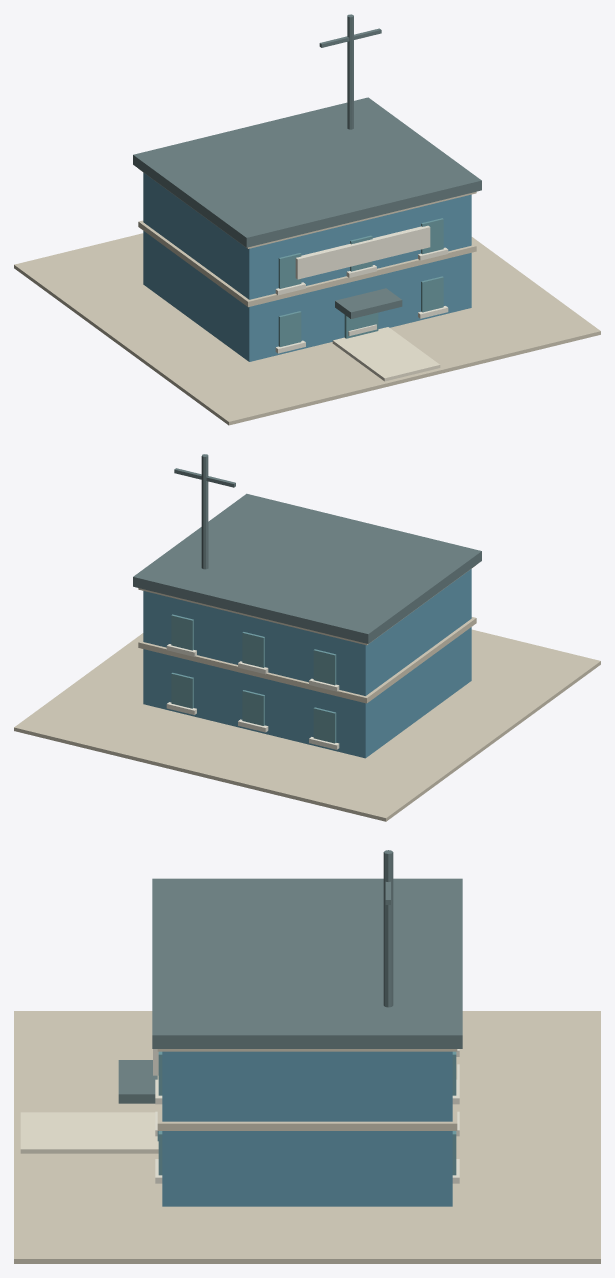
The model's file is civic_police.glb.
The picture shows the model from 3 angles, top to bottom: view 1: azimuth 30°, elevation 25°; view 2: azimuth 150°, elevation 25°; view 3: azimuth 270°, elevation 25°; orthographic projection. The views are drawn at different scales.
Visible parts, largest first — view 1: Paved civic lot.005, Copper roof.005, Masonry shell.005, Police sign, Front path.005, Limestone course.009, Entrance canopy.005, Radio mast, Recessed glazing.054, Recessed glazing.058, Recessed glazing.060, Limestone course.010 (+1 smaller); view 2: Paved civic lot.005, Masonry shell.005, Copper roof.005, Limestone course.009, Radio mast, Recessed glazing.055, Recessed glazing.061, Recessed glazing.065, Recessed glazing.057, Recessed glazing.059, Recessed glazing.063, Limestone course.010; view 3: Paved civic lot.005, Copper roof.005, Masonry shell.005, Front path.005, Limestone course.009, Entrance canopy.005, Radio mast, Limestone course.010.
Boxes of the visible parts, x1=… form: Paved civic lot.005: x1=14, y1=233, x2=600, y2=425; Copper roof.005: x1=133, y1=97, x2=481, y2=247; Masonry shell.005: x1=143, y1=172, x2=471, y2=361; Police sign: x1=295, y1=225, x2=430, y2=279; Front path.005: x1=332, y1=327, x2=440, y2=381; Limestone course.009: x1=138, y1=220, x2=476, y2=307; Entrance canopy.005: x1=335, y1=288, x2=402, y2=318; Radio mast: x1=347, y1=14, x2=353, y2=129; Recessed glazing.054: x1=278, y1=311, x2=301, y2=346; Recessed glazing.058: x1=421, y1=276, x2=443, y2=312; Recessed glazing.060: x1=278, y1=253, x2=301, y2=288; Limestone course.010: x1=139, y1=169, x2=476, y2=248; Paved civic lot.005: x1=14, y1=629, x2=600, y2=821; Masonry shell.005: x1=143, y1=569, x2=471, y2=758; Copper roof.005: x1=133, y1=493, x2=481, y2=643; Limestone course.009: x1=138, y1=617, x2=476, y2=703; Radio mast: x1=201, y1=454, x2=208, y2=569; Recessed glazing.055: x1=313, y1=707, x2=336, y2=743; Recessed glazing.061: x1=313, y1=649, x2=336, y2=685; Recessed glazing.065: x1=171, y1=614, x2=193, y2=650; Recessed glazing.057: x1=242, y1=690, x2=264, y2=725; Recessed glazing.059: x1=171, y1=672, x2=193, y2=708; Recessed glazing.063: x1=242, y1=632, x2=264, y2=667; Limestone course.010: x1=138, y1=565, x2=475, y2=645; Paved civic lot.005: x1=14, y1=1011, x2=600, y2=1263; Copper roof.005: x1=152, y1=878, x2=462, y2=1048; Masonry shell.005: x1=162, y1=1051, x2=452, y2=1206; Front path.005: x1=20, y1=1112, x2=158, y2=1153; Limestone course.009: x1=157, y1=1057, x2=457, y2=1130; Entrance canopy.005: x1=118, y1=1060, x2=157, y2=1103; Radio mast: x1=383, y1=850, x2=393, y2=1007; Limestone course.010: x1=157, y1=1049, x2=457, y2=1051.
Size of the model in its own units: 8.7 by 5.5 by 8.7.
